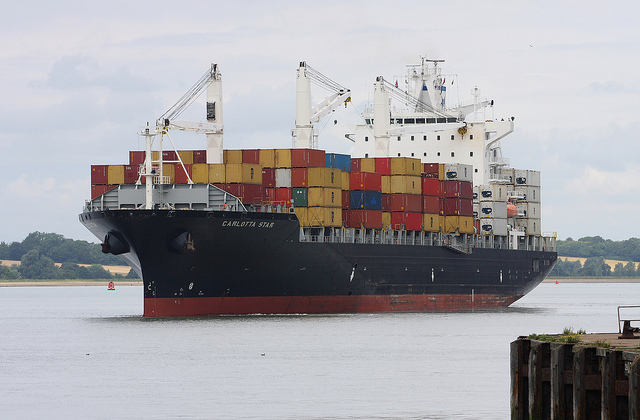container_ship: (84, 59, 563, 316)
